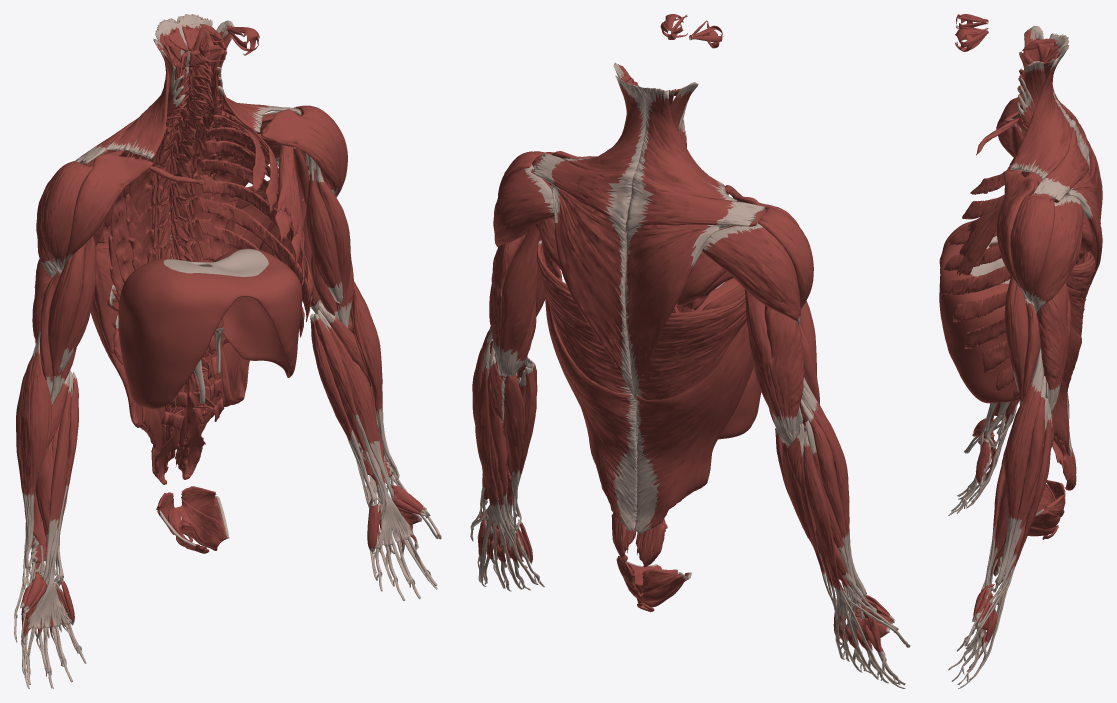
The model's file is muscles-1.glb.
The picture shows the model from 3 angles, left to right: view 1: azimuth 30°, elevation 25°; view 2: azimuth 150°, elevation 25°; view 3: azimuth 270°, elevation 25°; orthographic projection. The views are drawn at different scales.
Parts seen in each view (by area): view 1: Diaphragm, External_intercostal_musclesl, Brachioradialis_muscler, Clavicular_part_of_deltoid_muscler, Acromial_part_of_deltoid_muscler, Latissimus_dorsi_muscler, Clavicular_part_of_deltoid_musclel, Long_head_of_biceps_brachiir, Rotatoresl, Short_head_of_biceps_brachiil, Palmaris_longus_musclel, Ascending_part_of_trapezius_muscler (+32 smaller); view 2: Latissimus_dorsi_muscler, Latissimus_dorsi_musclel, Descending_part_of_trapezius_musclel, Descending_part_of_trapezius_muscler, Scapular_spinal_part_of_deltoid_muscler, Ascending_part_of_trapezius_muscler, Transverse_part_of_trapezius_muscler, Long_head_of_triceps_brachiil, Transverse_part_of_trapezius_musclel, Lateral_head_of_triceps_brachiir, Scapular_spinal_part_of_deltoid_musclel, Extensor_digitorumr (+20 smaller); view 3: External_intercostal_musclesl, Diaphragm, Ascending_part_of_trapezius_musclel, Brachioradialis_musclel, Acromial_part_of_deltoid_musclel, Scapular_spinal_part_of_deltoid_musclel, Latissimus_dorsi_musclel, Lateral_head_of_triceps_brachiil, Long_head_of_biceps_brachiil, Clavicular_part_of_deltoid_musclel, Transverse_part_of_trapezius_musclel, Extensor_carpi_radialis_longusl (+28 smaller).
Boxes of the visible parts, left/top/right/bottom form: Diaphragm: left=118, top=248, right=302, bottom=408; External_intercostal_musclesl: left=197, top=114, right=313, bottom=337; Brachioradialis_muscler: left=20, top=329, right=52, bottom=571; Clavicular_part_of_deltoid_muscler: left=63, top=153, right=153, bottom=268; Acromial_part_of_deltoid_muscler: left=40, top=161, right=93, bottom=270; Latissimus_dorsi_muscler: left=90, top=223, right=157, bottom=443; Clavicular_part_of_deltoid_musclel: left=261, top=109, right=340, bottom=195; Long_head_of_biceps_brachiir: left=48, top=244, right=85, bottom=405; Rotatoresl: left=171, top=64, right=209, bottom=479; Short_head_of_biceps_brachiil: left=306, top=153, right=342, bottom=303; Palmaris_longus_musclel: left=314, top=313, right=413, bottom=549; Ascending_part_of_trapezius_muscler: left=105, top=18, right=190, bottom=159; Latissimus_dorsi_muscler: left=634, top=294, right=753, bottom=533; Latissimus_dorsi_musclel: left=536, top=240, right=637, bottom=531; Descending_part_of_trapezius_musclel: left=551, top=184, right=635, bottom=399; Descending_part_of_trapezius_muscler: left=625, top=224, right=730, bottom=399; Scapular_spinal_part_of_deltoid_muscler: left=702, top=222, right=800, bottom=325; Ascending_part_of_trapezius_muscler: left=635, top=86, right=737, bottom=201; Transverse_part_of_trapezius_muscler: left=625, top=171, right=765, bottom=233; Long_head_of_triceps_brachiil: left=497, top=225, right=541, bottom=376; Transverse_part_of_trapezius_musclel: left=533, top=153, right=635, bottom=233; Lateral_head_of_triceps_brachiir: left=764, top=305, right=804, bottom=445; Scapular_spinal_part_of_deltoid_musclel: left=493, top=167, right=554, bottom=247; Extensor_digitorumr: left=803, top=431, right=898, bottom=683; External_intercostal_musclesl: left=942, top=164, right=1076, bottom=402; Diaphragm: left=939, top=221, right=1019, bottom=403; Ascending_part_of_trapezius_musclel: left=1010, top=45, right=1071, bottom=179; Brachioradialis_musclel: left=995, top=343, right=1043, bottom=586; Acromial_part_of_deltoid_musclel: left=1010, top=194, right=1054, bottom=302; Scapular_spinal_part_of_deltoid_musclel: left=1032, top=195, right=1083, bottom=313; Latissimus_dorsi_musclel: left=1052, top=253, right=1095, bottom=457; Lateral_head_of_triceps_brachiil: left=1037, top=282, right=1070, bottom=412; Long_head_of_biceps_brachiil: left=1004, top=277, right=1028, bottom=404; Clavicular_part_of_deltoid_musclel: left=996, top=171, right=1034, bottom=298; Transverse_part_of_trapezius_musclel: left=1033, top=122, right=1089, bottom=200; Extensor_carpi_radialis_longusl: left=996, top=376, right=1046, bottom=605.
Bounding box in the file's own units: 0.6601 × 0.8978 × 0.2311.
